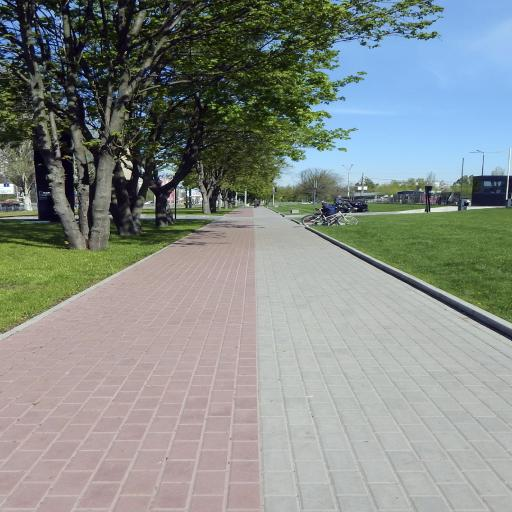bag: (302, 212, 357, 226)
construction_fence: (306, 227, 511, 339)
shelf: (0, 208, 511, 511)
